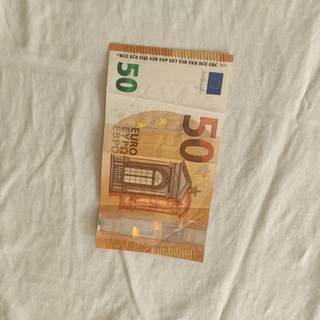50EUROFront: (94, 42, 233, 264)
